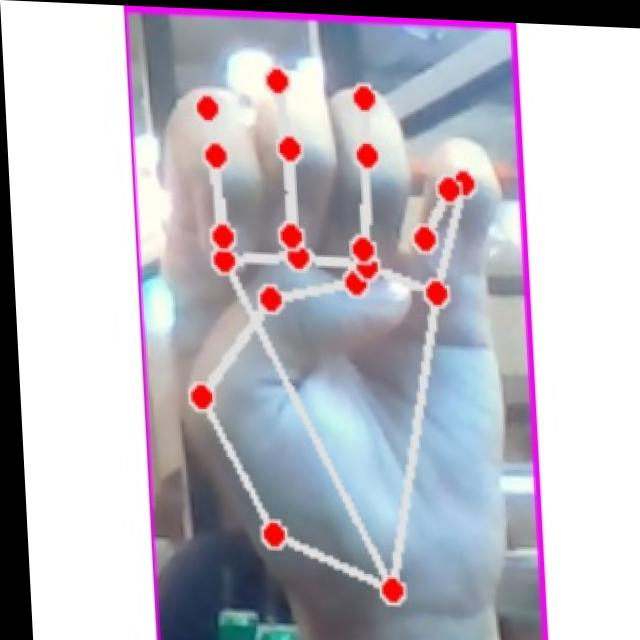E: (131, 56, 527, 635)
